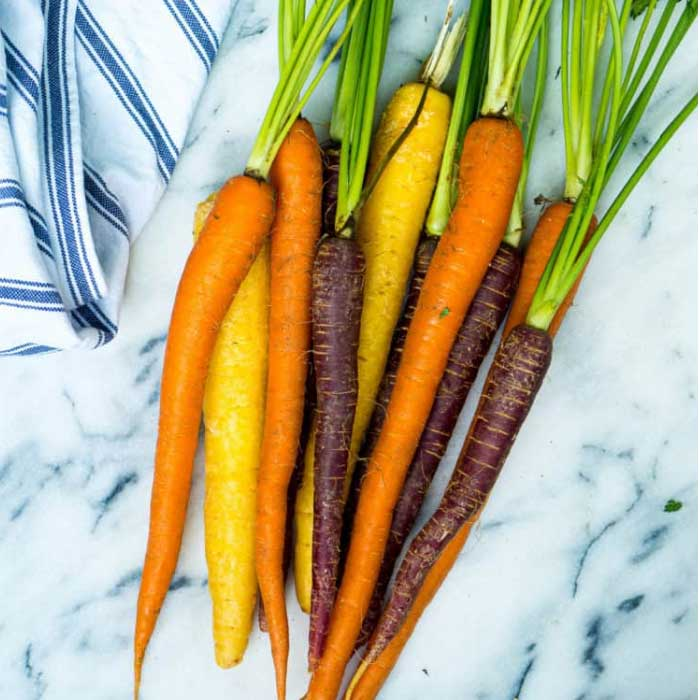Karotte: (305, 118, 524, 699), (134, 174, 274, 700)
